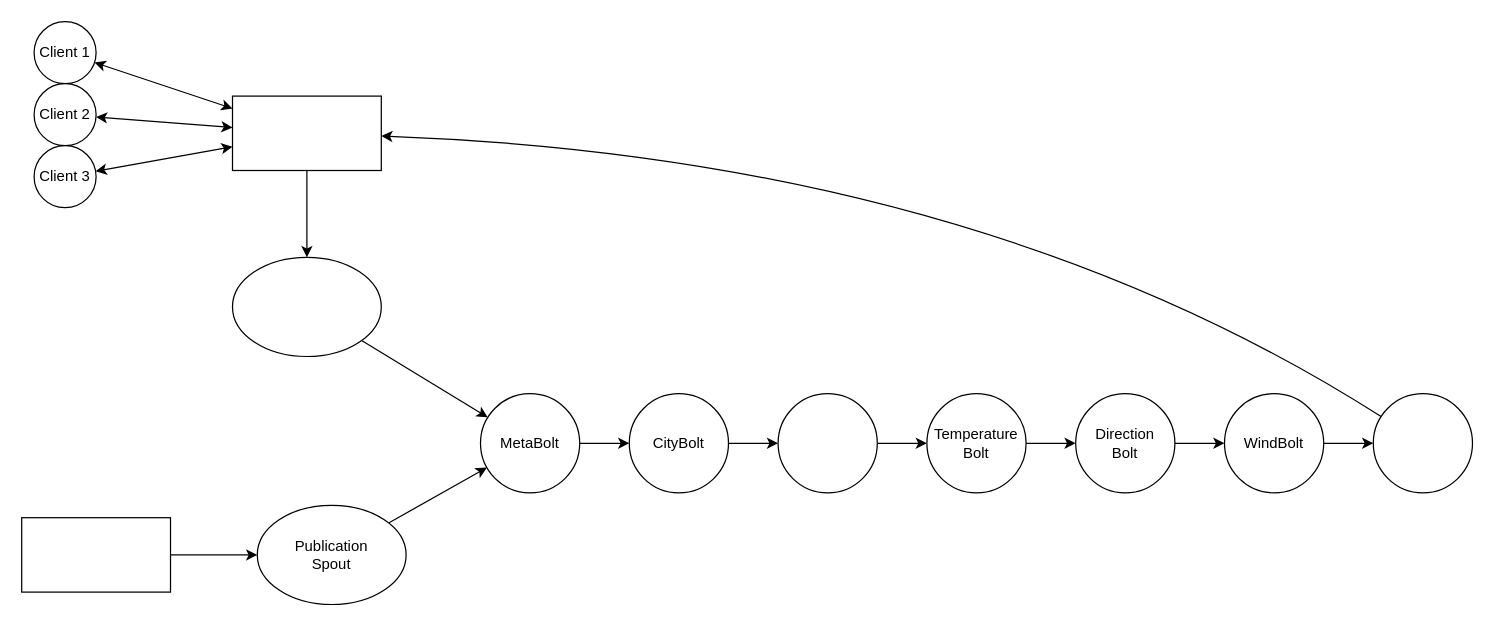
This 1494x626 diagram has some shape labels left out. Each missing label, with the centre of its shape:
BoltTerminal: point 1422,442
Publisher App: point 95,554
StationId Bolt: point 827,442
Subscriber App: point 306,132
Subscription Spout: point 306,306
